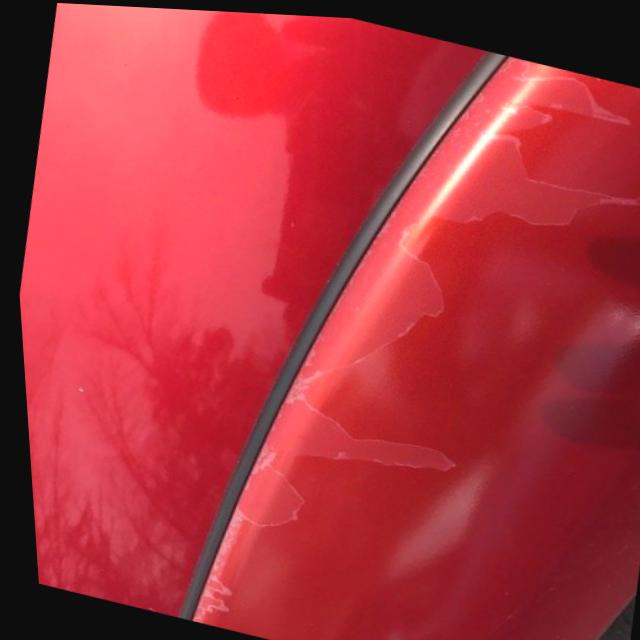Paint-fading: (294, 54, 640, 387), (224, 390, 464, 533), (187, 562, 237, 624)
